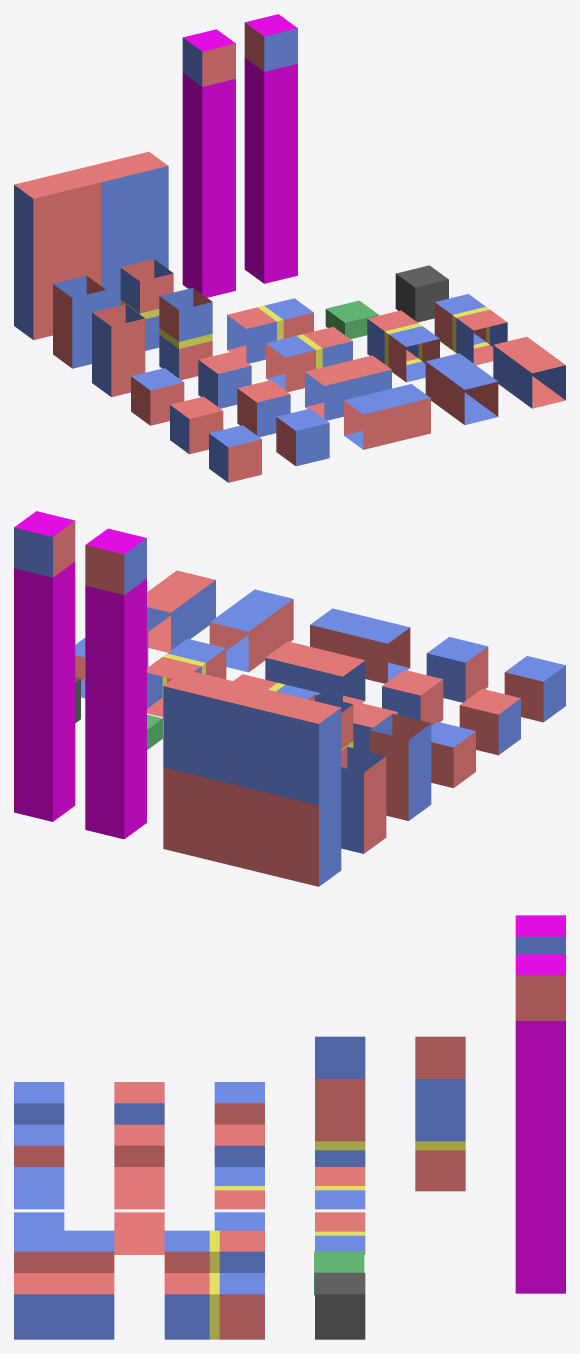
The model's file is template_SU8.dae.
3 views of the same model, one above another, from view 1: azimuth 30°, elevation 25°; view 2: azimuth 150°, elevation 25°; view 3: azimuth 270°, elevation 25° (orthographic). The views are drawn at different scales.
Visible parts, largest first — view 1: C-patch rotation, C-cultivation.001, C-cultivation, C-oxz, C-zxo, C-zxoh, C-xoz, C-zox, C-xzo, C-zoxh, C-xozh, C-ozx (+11 smaller); view 2: C-patch rotation, C-cultivation, C-cultivation.001, C-zxo, C-xoz, C-oxz, C-xzo, C-zox, C-ozx, C-zxx, C-zxz, C-xzz (+7 smaller); view 3: C-cultivation.001, C-zoxh, C-zox, C-xzoh, C-zxoh, C-ozx, C-xozh, C-xoz, C-ozxh, C-port, C-oxzh, C-oxz (+10 smaller).
Part boxes in pixels (x1,y1,x2,y2): C-patch rotation: [14, 151, 168, 339]; C-cultivation.001: [244, 14, 297, 283]; C-cultivation: [182, 29, 235, 297]; C-oxz: [344, 384, 430, 449]; C-zxo: [92, 304, 145, 397]; C-zxoh: [159, 288, 212, 379]; C-xoz: [425, 353, 498, 424]; C-zox: [493, 336, 565, 408]; C-xzo: [53, 275, 106, 368]; C-zoxh: [434, 294, 507, 365]; C-xozh: [367, 310, 439, 382]; C-ozx: [305, 355, 391, 420]; C-patch rotation: [163, 669, 341, 886]; C-cultivation: [85, 528, 146, 839]; C-cultivation.001: [14, 511, 75, 821]; C-zxo: [370, 714, 431, 820]; C-xoz: [209, 589, 293, 672]; C-oxz: [310, 608, 410, 683]; C-xzo: [341, 746, 386, 853]; C-zox: [147, 570, 215, 652]; C-ozx: [265, 641, 365, 706]; C-zxx: [459, 688, 520, 755]; C-zxz: [504, 656, 565, 722]; C-xzz: [426, 637, 488, 702]; C-cultivation.001: [515, 954, 565, 1293]; C-zoxh: [164, 1273, 264, 1339]; C-zox: [14, 1273, 114, 1339]; C-xzoh: [415, 1079, 465, 1191]; C-zxoh: [315, 1079, 365, 1166]; C-ozx: [114, 1167, 164, 1254]; C-xozh: [164, 1230, 264, 1272]; C-xoz: [14, 1230, 114, 1272]; C-ozxh: [315, 1167, 365, 1254]; C-port: [315, 1273, 365, 1339]; C-oxzh: [214, 1167, 264, 1230]; C-oxz: [14, 1167, 64, 1230].
Size of the model in its own units: 0.254 by 0.2794 by 0.1778.
